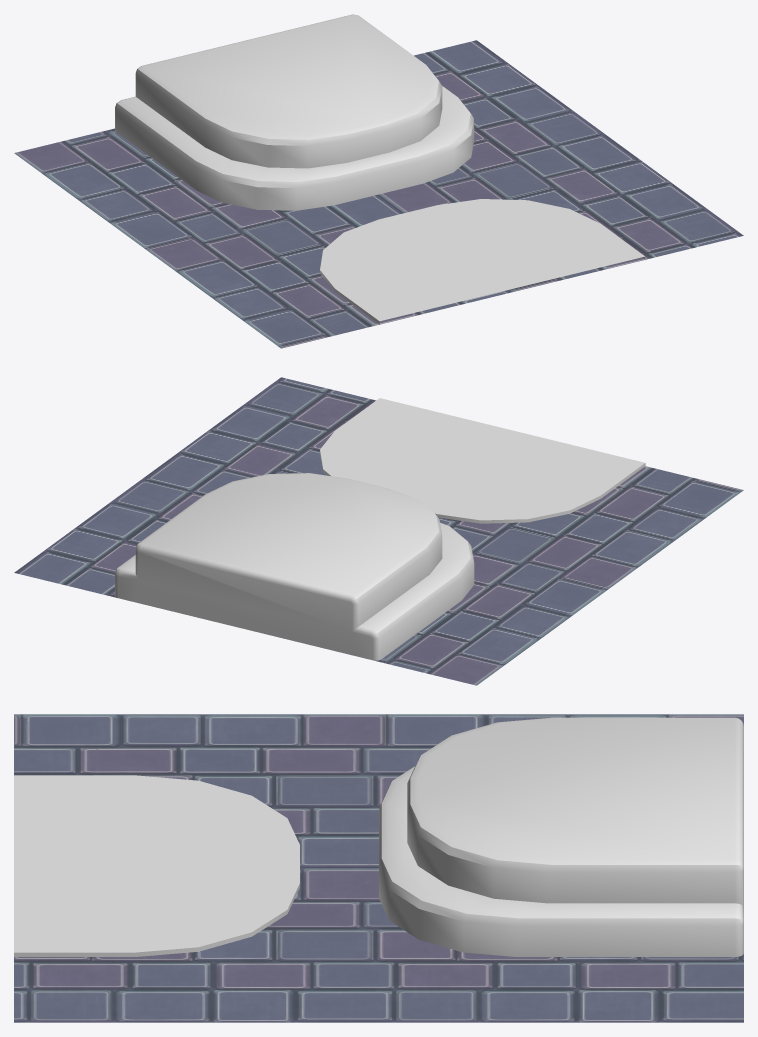
File: Modular_Enviro_Floor_Carpet_trhone.fbx
3 views of the same model, one above another, from view 1: azimuth 30°, elevation 25°; view 2: azimuth 150°, elevation 25°; view 3: azimuth 270°, elevation 25° (orthographic). The views are drawn at different scales.
Visible parts, largest first — view 1: Cube.023, Cube.027, Floor.002; view 2: Cube.023, Cube.027, Floor.002; view 3: Cube.023, Cube.027, Floor.002.
Boxes of the visible parts, x1=… form: Cube.023: x1=14, y1=40, x2=743, y2=348; Cube.027: x1=115, y1=14, x2=474, y2=210; Floor.002: x1=320, y1=199, x2=645, y2=324; Cube.023: x1=14, y1=377, x2=743, y2=685; Cube.027: x1=115, y1=473, x2=474, y2=660; Floor.002: x1=320, y1=398, x2=645, y2=523; Cube.023: x1=14, y1=714, x2=743, y2=1022; Cube.027: x1=379, y1=717, x2=743, y2=956; Floor.002: x1=14, y1=775, x2=299, y2=956.
Bounding box in the file's own units: 497 × 60.63 × 497.
